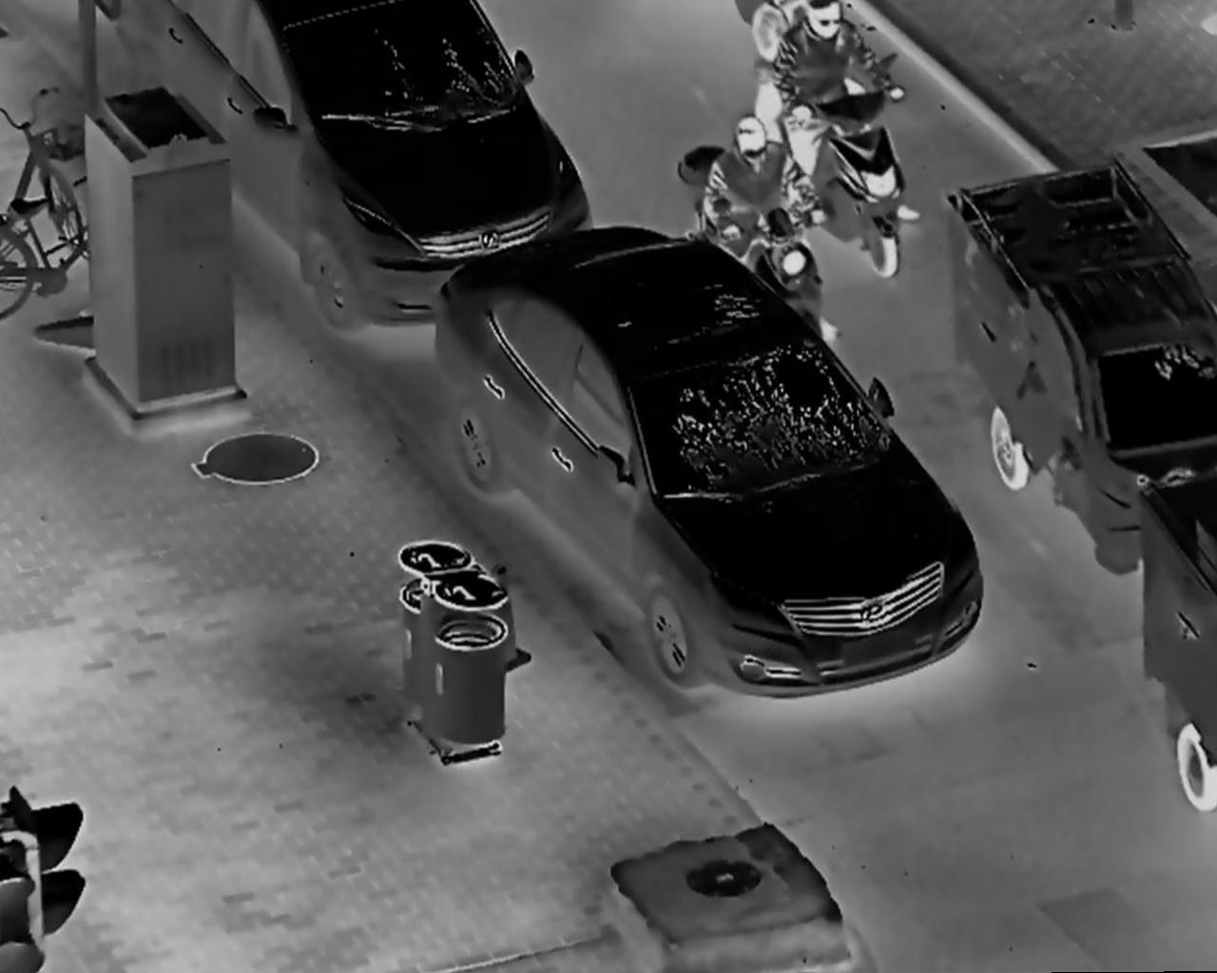person: (701, 116, 843, 342)
